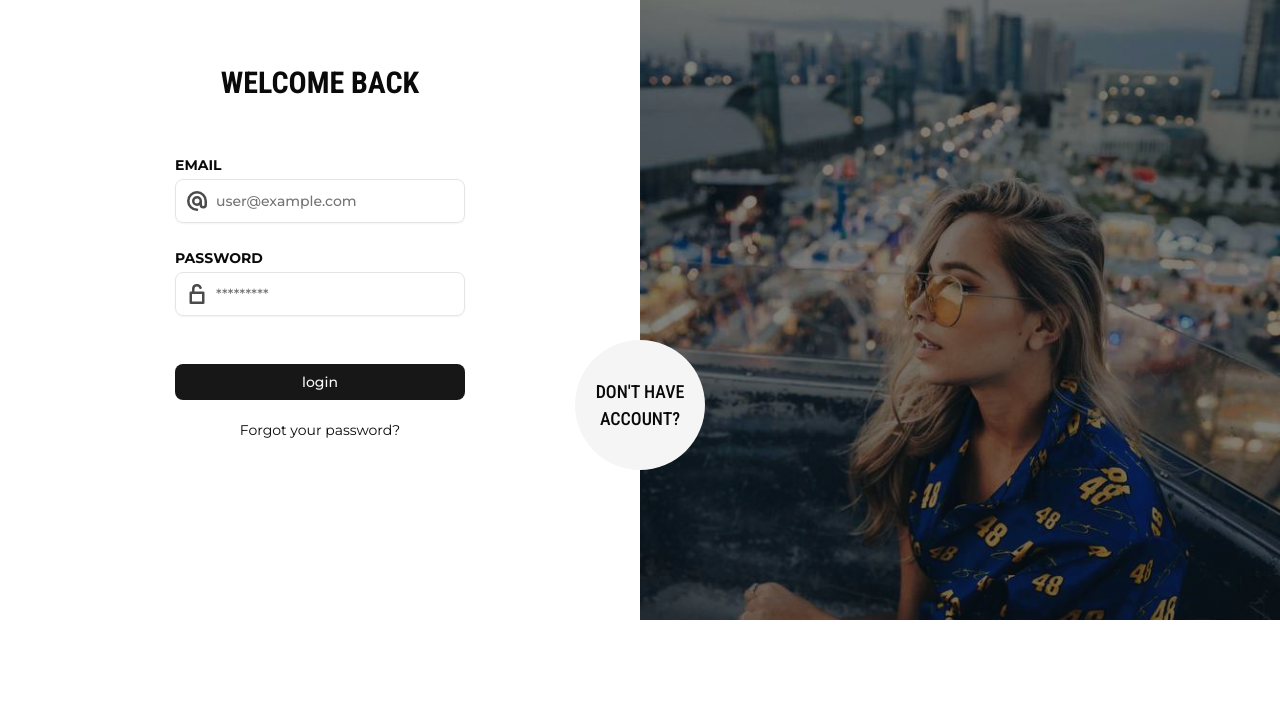
Test case: switches to register and blocks a mismatched password
Click the button "DON'T HAVE ACCOUNT?" at (640, 405), box [575, 340, 705, 470]
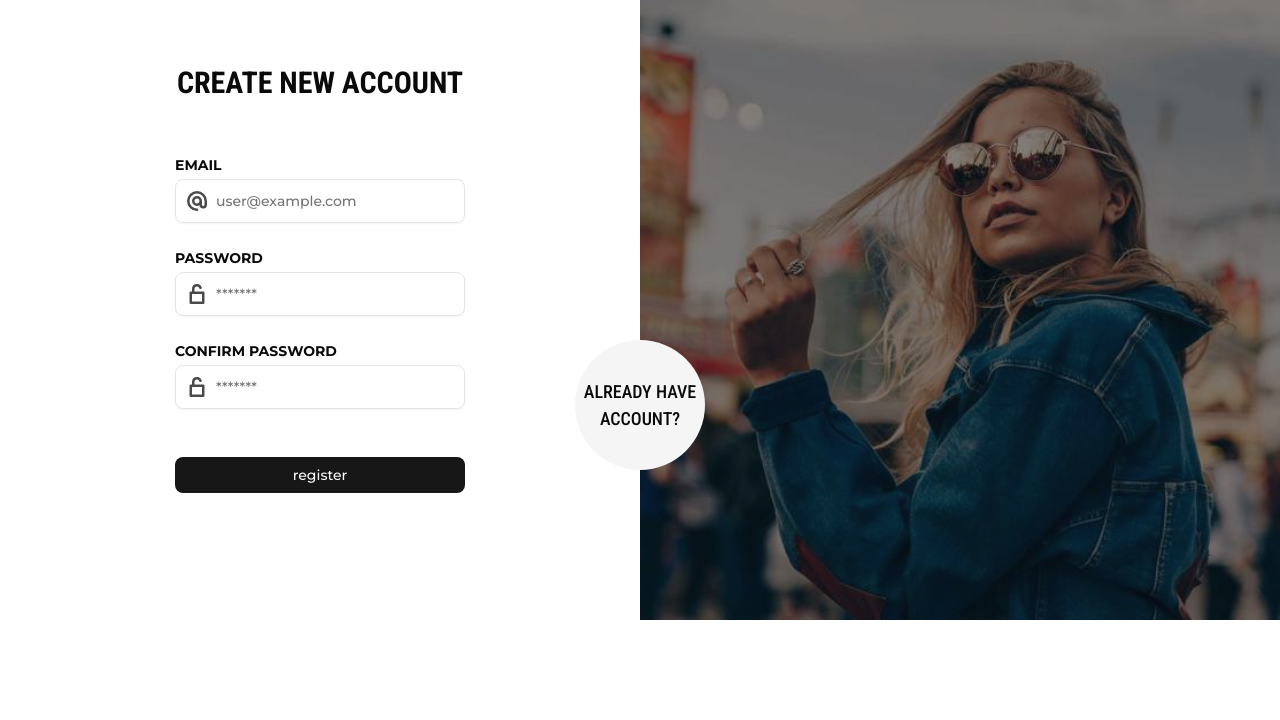
Expected: the heading "CREATE NEW ACCOUNT" is shown, [177, 60, 463, 105]
Type "a@b.co" into the field labelled "email" at (320, 201), box [175, 179, 465, 223]
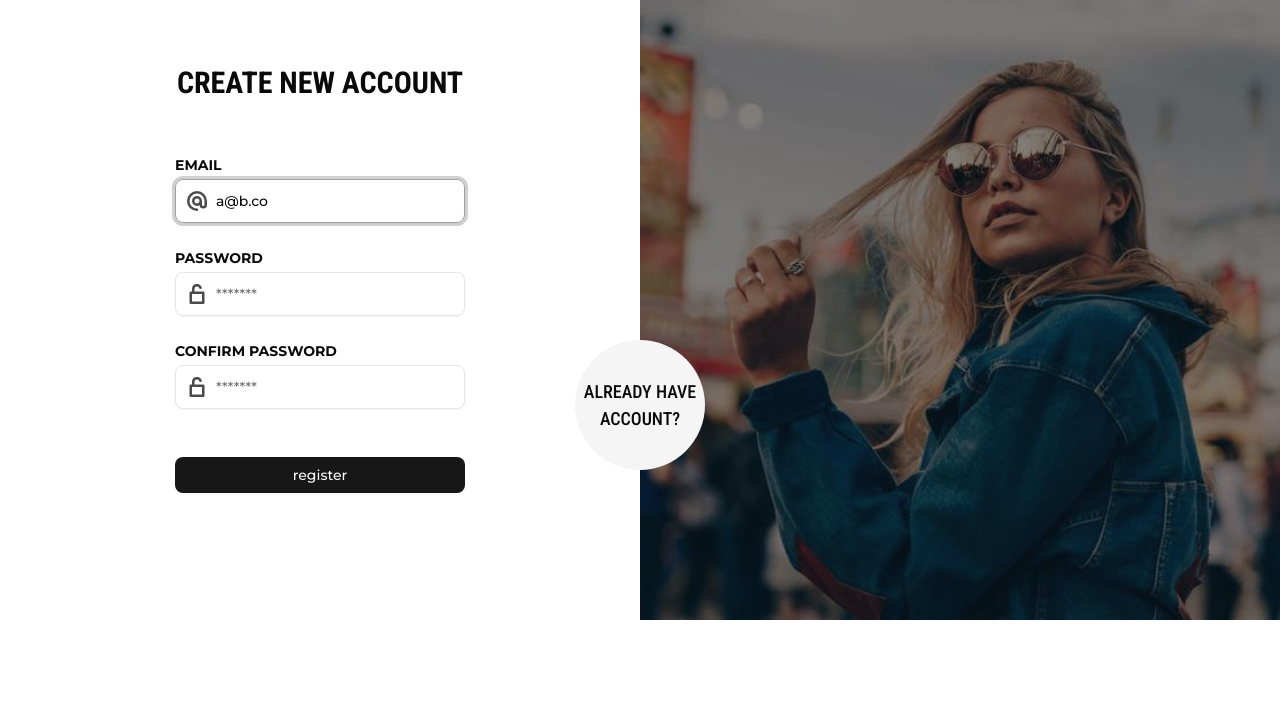
Type "hunter2" into the password field labelled "password" at (320, 294), box [175, 272, 465, 316]
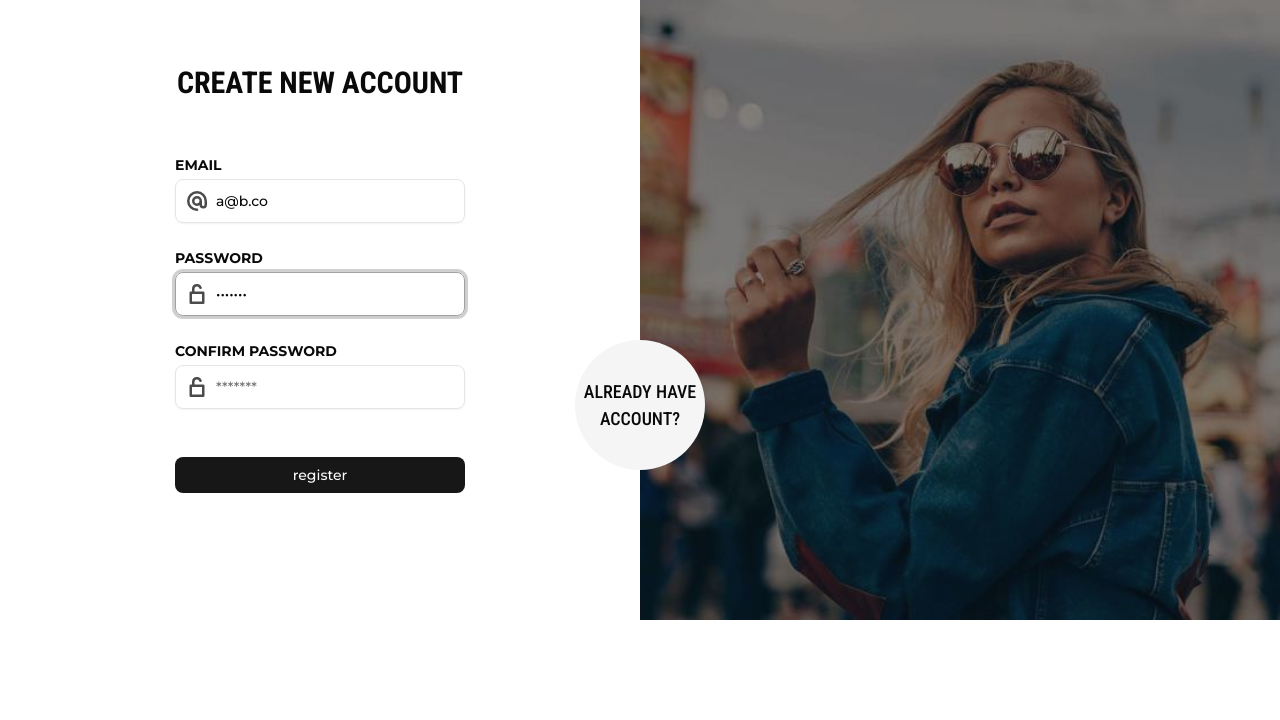
Type "different" into the password field labelled "confirm password" at (320, 387), box [175, 365, 465, 409]
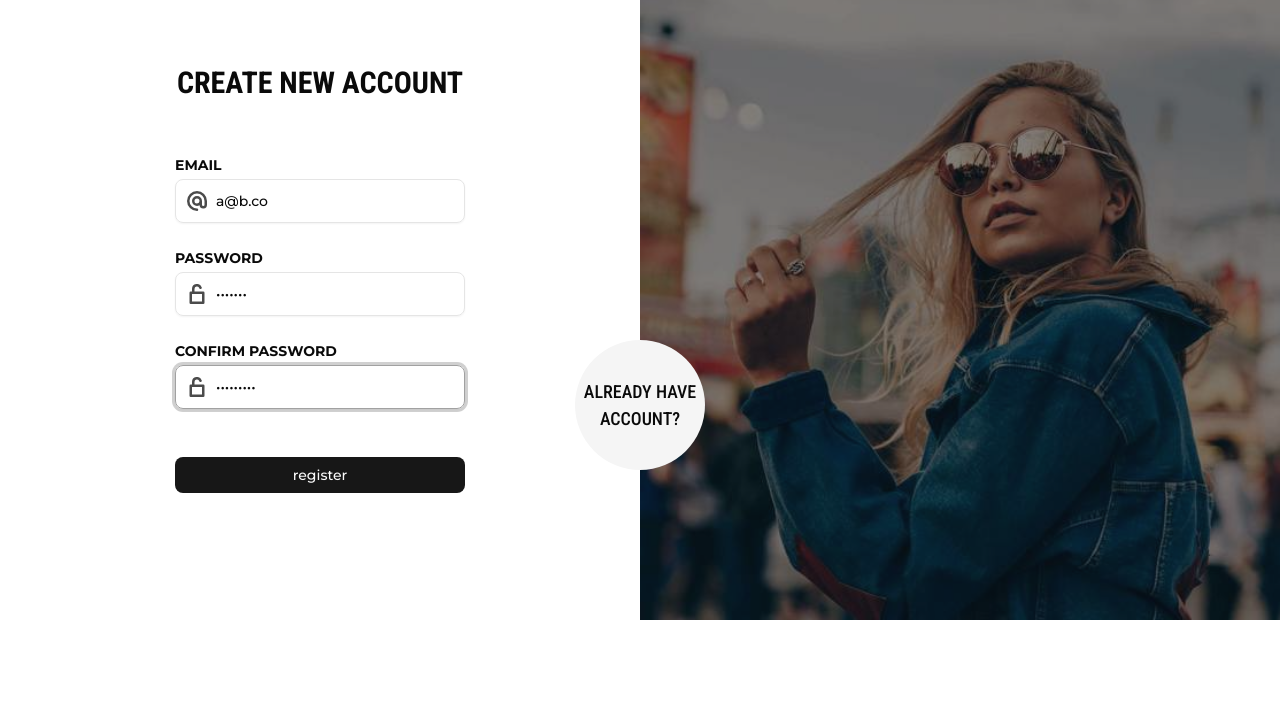
Click the button "register" at (320, 475), box [175, 457, 465, 493]
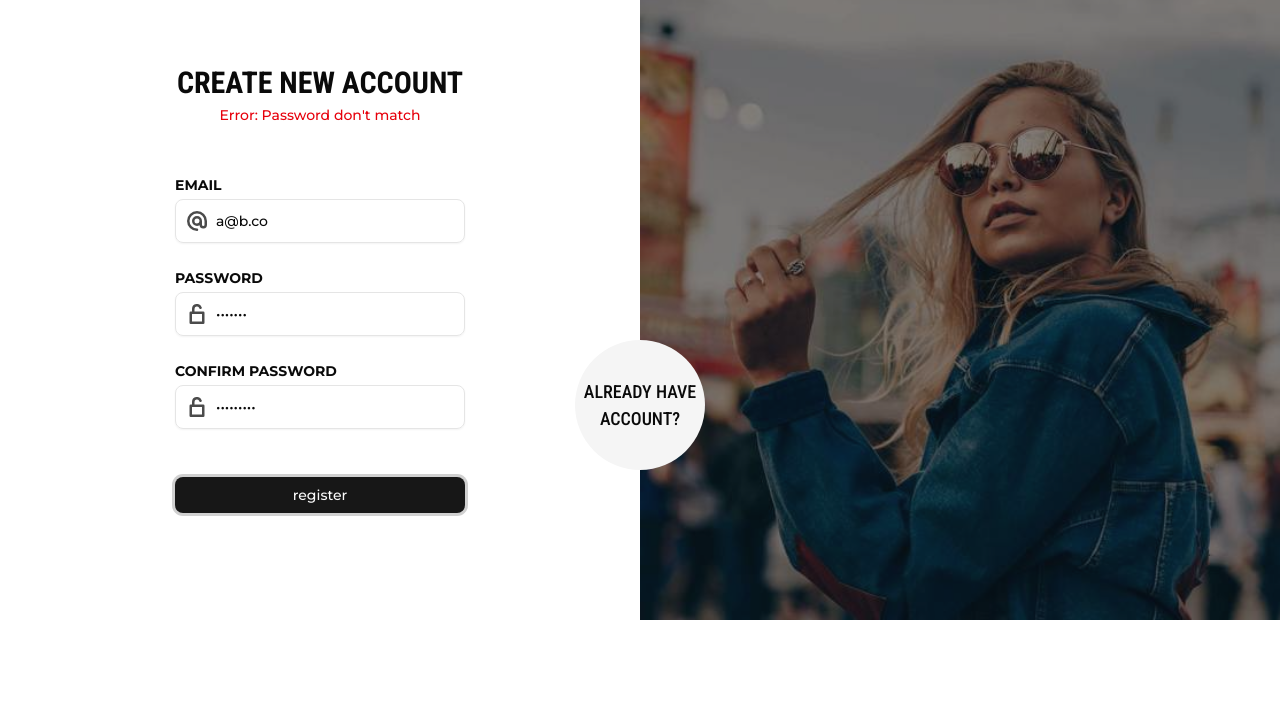
Expected: the text "Error: Password don't match" is shown, [219, 105, 420, 125]
